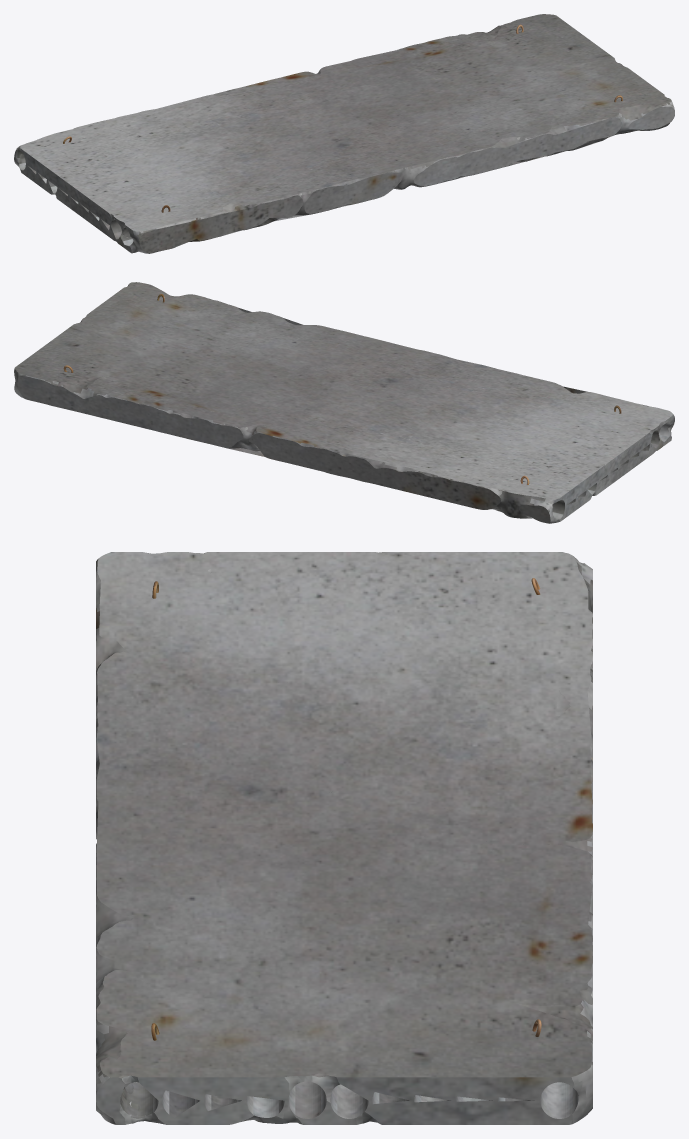
File: plita_bet_002_6.fbx
3 views of the same model, one above another, from view 1: azimuth 30°, elevation 25°; view 2: azimuth 150°, elevation 25°; view 3: azimuth 270°, elevation 25° (orthographic). The views are drawn at different scales.
Visible parts, largest first — view 1: plita_bet_002_4; view 2: plita_bet_002_4; view 3: plita_bet_002_4.
Boxes of the visible parts, x1,y1,x2,y2 form: plita_bet_002_4: (14,14,674,253); plita_bet_002_4: (14,282,674,523); plita_bet_002_4: (96,552,592,1124).
Size of the model in its own units: 600 by 32.9 by 240.
2 materials, 2 textured.
